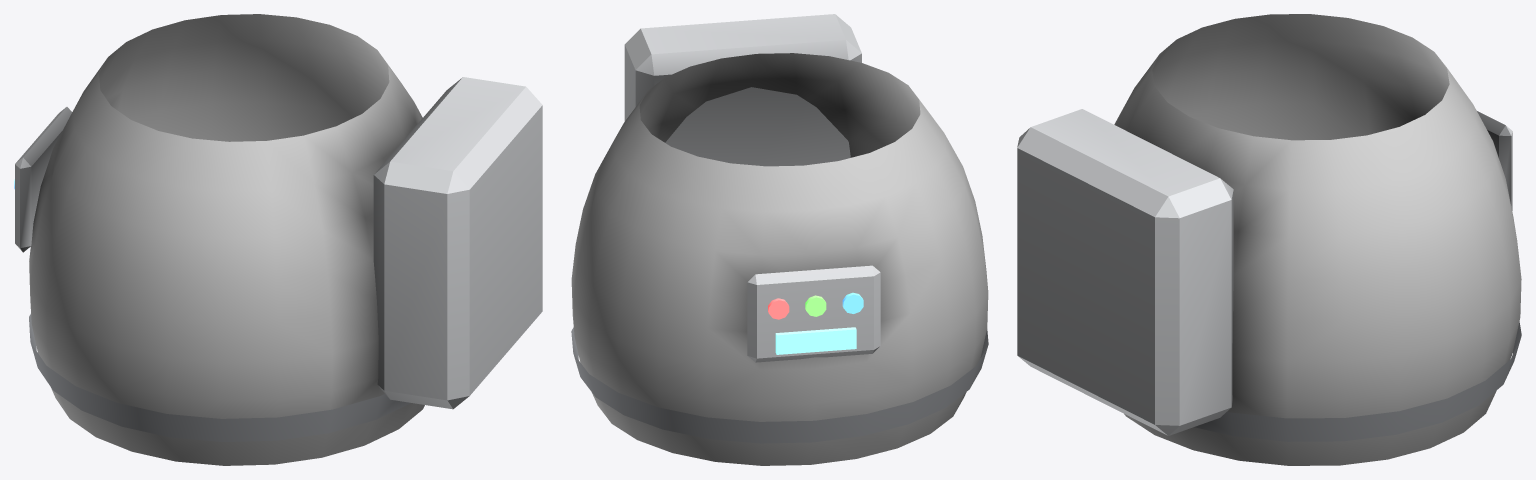
The model's file is space_chest.fbx.
3 views of the same model, side by side, from view 1: azimuth 30°, elevation 25°; view 2: azimuth 150°, elevation 25°; view 3: azimuth 270°, elevation 25° (orthographic). The views are drawn at different scales.
Parts seen in each view (by area): view 1: space_chest; view 2: space_chest; view 3: space_chest.
Part boxes in pixels (x1,y1,x2,y2): space_chest: [14, 14, 542, 465]; space_chest: [571, 14, 988, 465]; space_chest: [1017, 14, 1521, 465].
Size of the model in its own units: 1.66 by 1.15 by 1.72.
